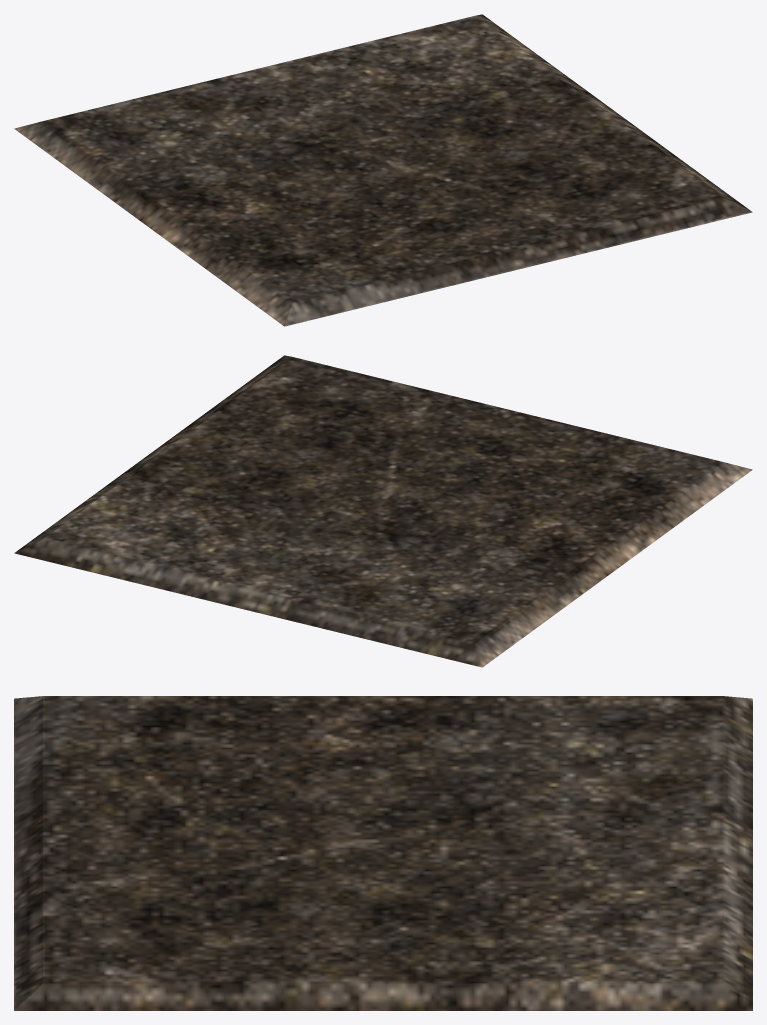
Rendered from SM_TI_Slab_8.fbx.
The picture shows the model from 3 angles, top to bottom: view 1: azimuth 30°, elevation 25°; view 2: azimuth 150°, elevation 25°; view 3: azimuth 270°, elevation 25°; orthographic projection. The views are drawn at different scales.
Parts seen in each view (by area): view 1: SM_TI_Slab_8; view 2: SM_TI_Slab_8; view 3: SM_TI_Slab_8.
Part boxes in pixels (box(x1,y1,x2,y2)): SM_TI_Slab_8: box(14, 14, 752, 326); SM_TI_Slab_8: box(14, 355, 752, 667); SM_TI_Slab_8: box(14, 696, 752, 1010).
Size of the model in its own units: 2 by 2 by 0.0442.
